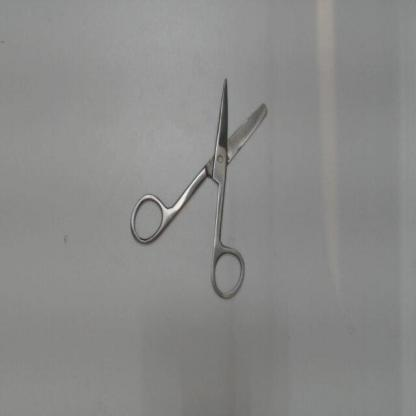Dressing Scissors: (118, 55, 282, 308)
